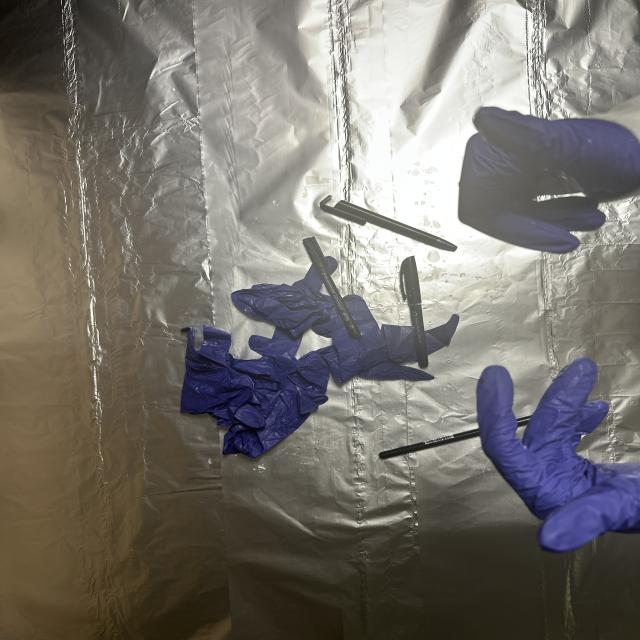gloves_contaminated: (477, 358, 640, 552), (458, 108, 640, 252)
